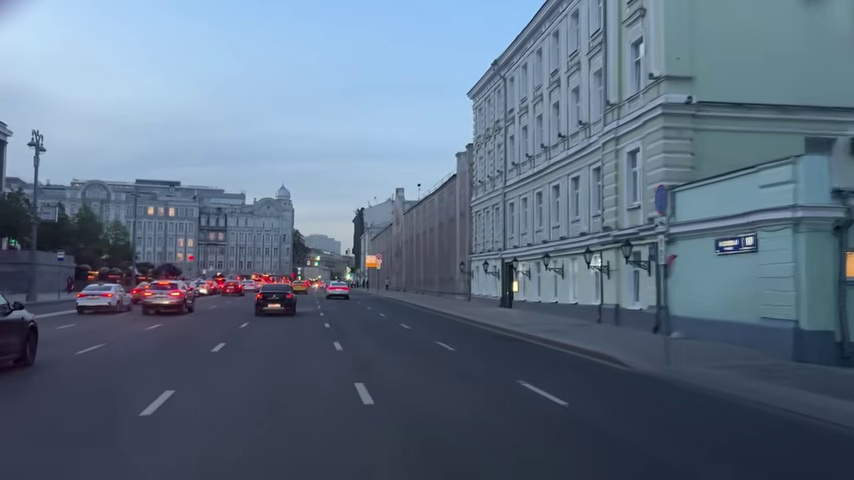apagada: (440, 171, 458, 191)
